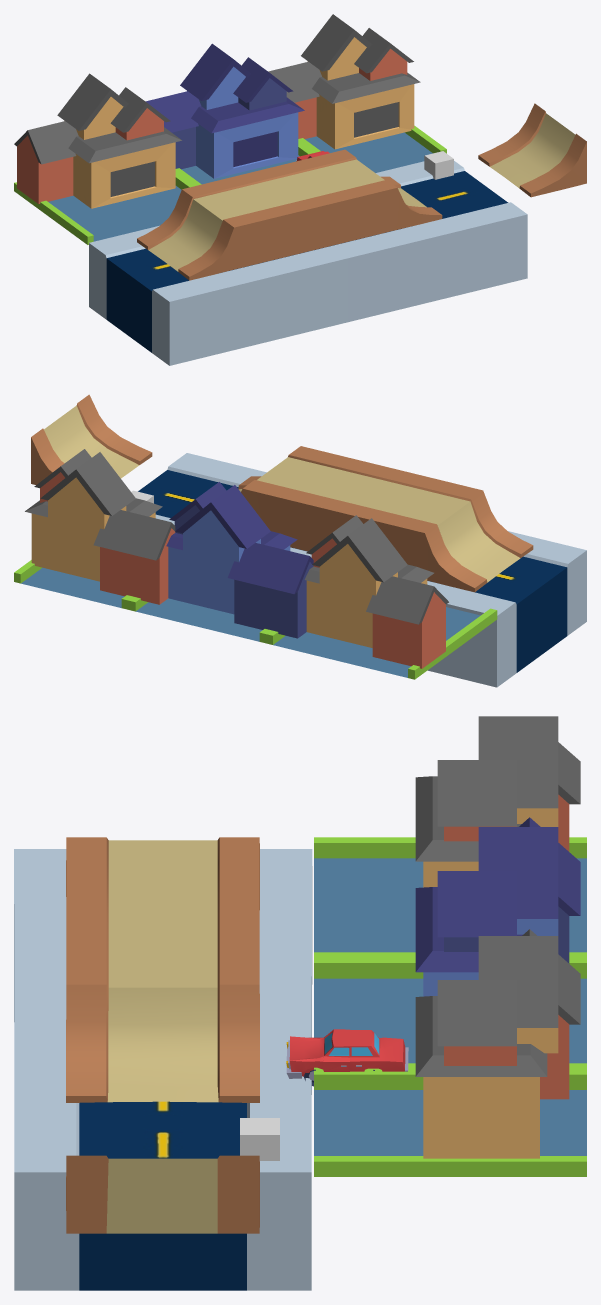
Rendered from based runner road.4blend.fbx.
The picture shows the model from 3 angles, top to bottom: view 1: azimuth 30°, elevation 25°; view 2: azimuth 150°, elevation 25°; view 3: azimuth 270°, elevation 25°; orthographic projection. The views are drawn at different scales.
Parts seen in each view (by area): view 1: Cube.001, Cube.006, Cube.047, Cube.032, Cube.038, Plane.003, Cube.008, Cube.043; view 2: Cube.006, Cube.001, Cube.032, Cube.038, Cube.047, Plane.003, Cube.008; view 3: Cube.001, Cube.006, Plane.003, Cube.038, Cube.032, Cube.047, Cube.008, Cube.054, Cube.043.
Part boxes in pixels (x1,y1,x2,y2): Cube.001: (89, 161, 527, 365); Cube.006: (137, 149, 442, 280); Cube.047: (14, 73, 181, 208); Cube.032: (145, 43, 304, 178); Cube.038: (268, 14, 420, 149); Plane.003: (14, 125, 446, 244); Cube.008: (478, 103, 586, 197); Cube.043: (424, 151, 453, 179); Cube.006: (238, 446, 533, 592); Cube.001: (138, 453, 586, 687); Cube.032: (166, 482, 313, 638); Cube.038: (25, 449, 175, 604); Cube.047: (304, 515, 448, 668); Plane.003: (14, 560, 497, 679); Cube.008: (31, 394, 152, 484); Cube.001: (14, 849, 312, 1290); Cube.006: (66, 837, 259, 1102); Plane.003: (314, 837, 586, 1176); Cube.038: (415, 929, 580, 1158); Cube.032: (415, 817, 580, 996); Cube.047: (415, 716, 580, 887); Cube.008: (66, 1155, 259, 1233); Cube.054: (286, 1029, 408, 1086); Cube.043: (240, 1118, 279, 1160).
Size of the model in its own units: 4642 by 1722 by 2869.
Materials: 23 (1 with a texture image).
